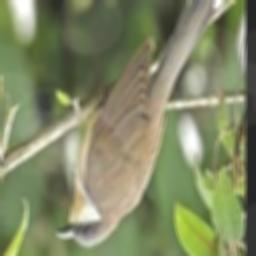Cuckoo: (54, 0, 224, 248)
